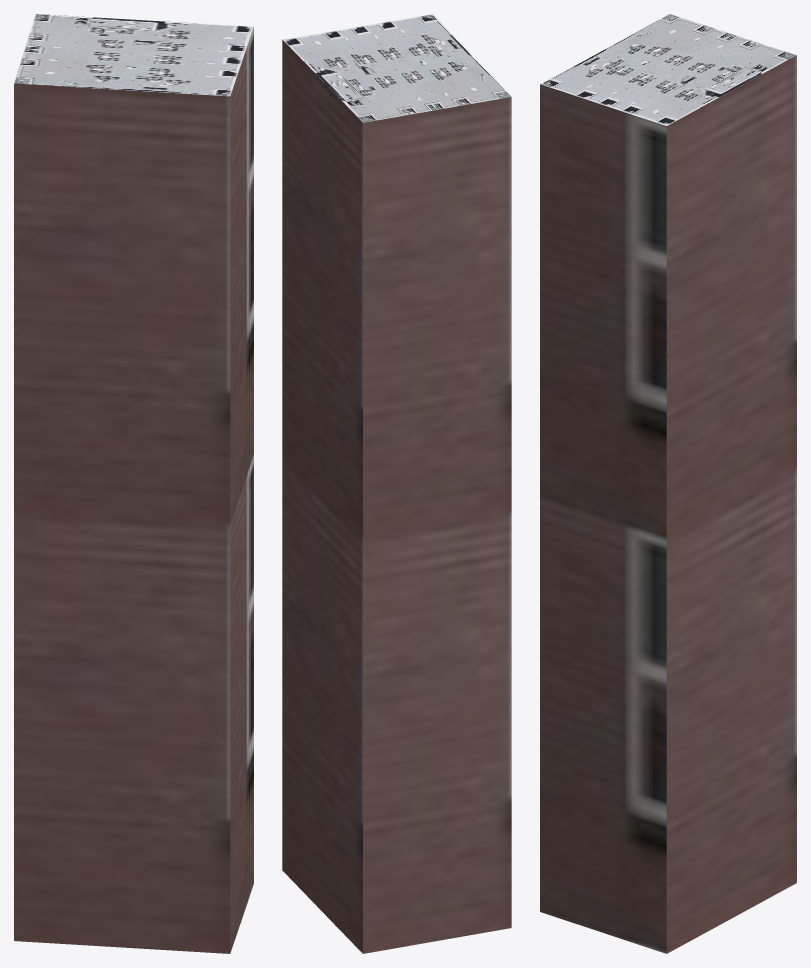
The model's file is ResTex__2125.fbx.
The picture shows the model from 3 angles, left to right: view 1: azimuth 30°, elevation 25°; view 2: azimuth 150°, elevation 25°; view 3: azimuth 270°, elevation 25°; orthographic projection. The views are drawn at different scales.
Parts seen in each view (by area): view 1: CityEngineMaterial_12_m, CityEngineMaterial_m; view 2: CityEngineMaterial_12_m, CityEngineMaterial_m; view 3: CityEngineMaterial_12_m, CityEngineMaterial_m.
Boxes of the visible parts, box(x1,y1,x2,y2) form: CityEngineMaterial_12_m: box(14, 27, 253, 953); CityEngineMaterial_m: box(14, 14, 253, 96); CityEngineMaterial_12_m: box(282, 40, 511, 953); CityEngineMaterial_m: box(282, 14, 510, 122); CityEngineMaterial_12_m: box(540, 55, 796, 953); CityEngineMaterial_m: box(540, 14, 796, 125).
Bounding box in the file's own units: 1.74 × 6 × 1.69.
2 materials, 2 textured.
